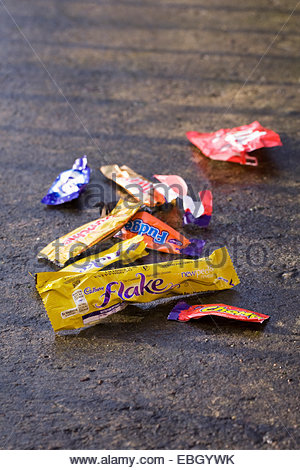wrapper: (33, 247, 236, 333), (38, 196, 141, 270), (100, 158, 189, 217), (116, 207, 206, 258), (185, 120, 283, 166), (163, 298, 281, 333), (42, 154, 91, 209)
